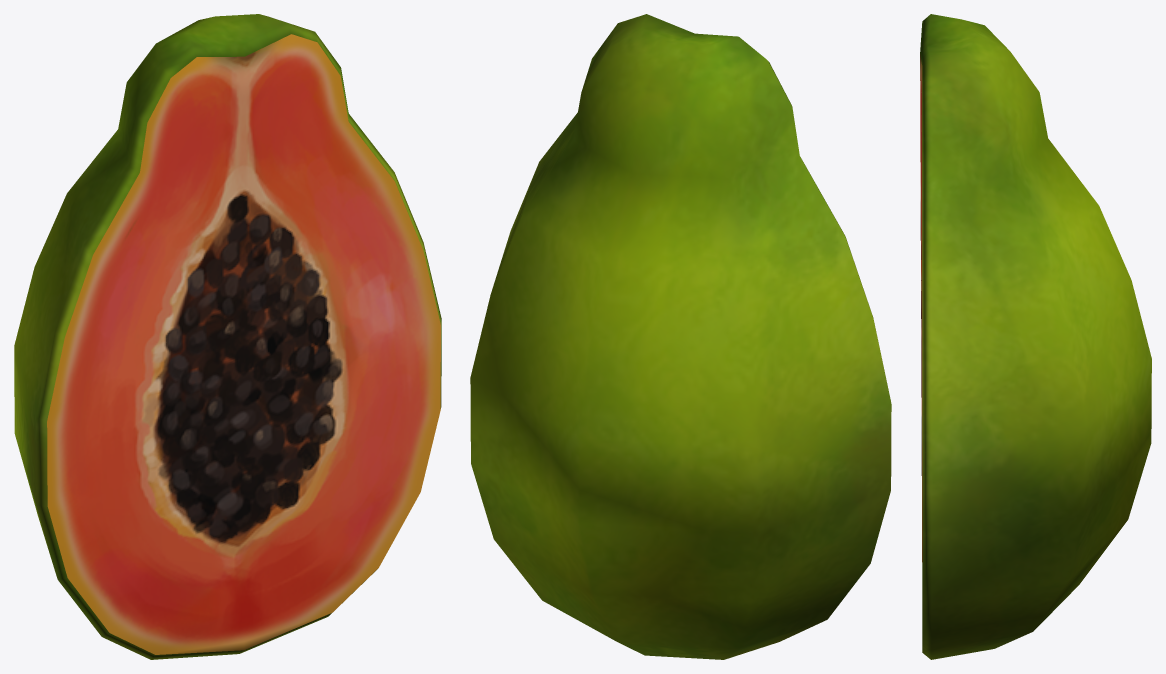
Rendered from Papaya_Half.fbx.
3 renders of one model, left to right at view 1: azimuth 30°, elevation 25°; view 2: azimuth 150°, elevation 25°; view 3: azimuth 270°, elevation 25°, orthographic. The views are drawn at different scales.
Visible parts, largest first — view 1: Papaya_Half; view 2: Papaya_Half; view 3: Papaya_Half.
Boxes of the visible parts, x1=… form: Papaya_Half: x1=14, y1=14, x2=441, y2=659; Papaya_Half: x1=470, y1=14, x2=891, y2=659; Papaya_Half: x1=920, y1=14, x2=1151, y2=659.
Bounding box in the file's own units: 35.4 × 51.75 × 18.2.
